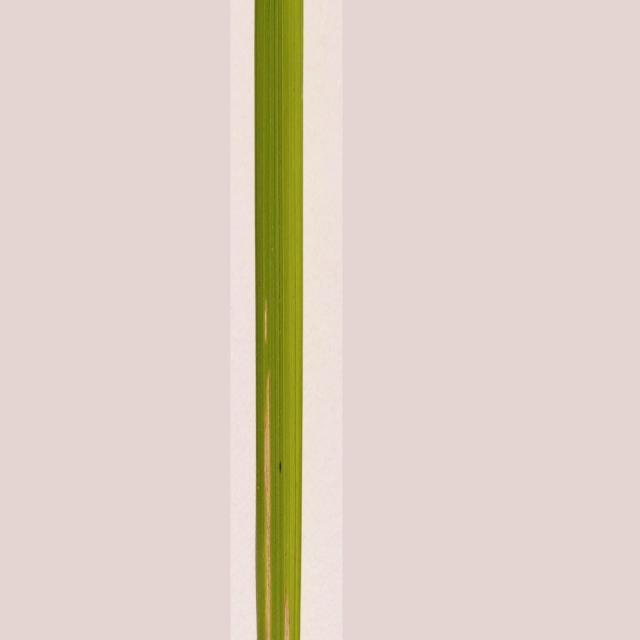leaf blight: (250, 299, 294, 640)
